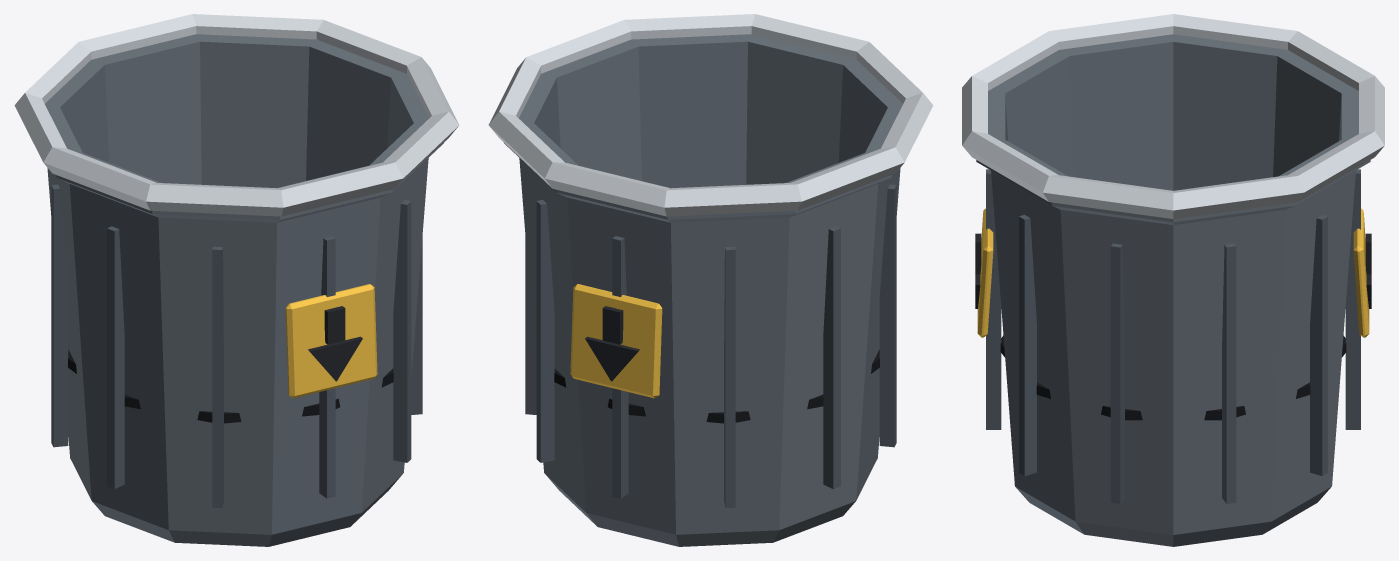
Rendered from trash.glb.
The picture shows the model from 3 angles, left to right: view 1: azimuth 30°, elevation 25°; view 2: azimuth 150°, elevation 25°; view 3: azimuth 270°, elevation 25°; orthographic projection.
Parts seen in each view (by area): view 1: trash; view 2: trash; view 3: trash.
Boxes of the visible parts, x1,y1,x2,y2 form: trash: (14,14,459,546); trash: (488,14,933,546); trash: (962,14,1384,546).
Size of the model in its own units: 0.88 by 0.8285 by 0.8369.
